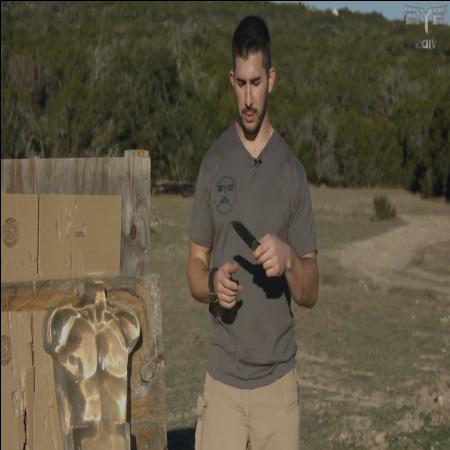long weapon: (226, 211, 284, 277)
